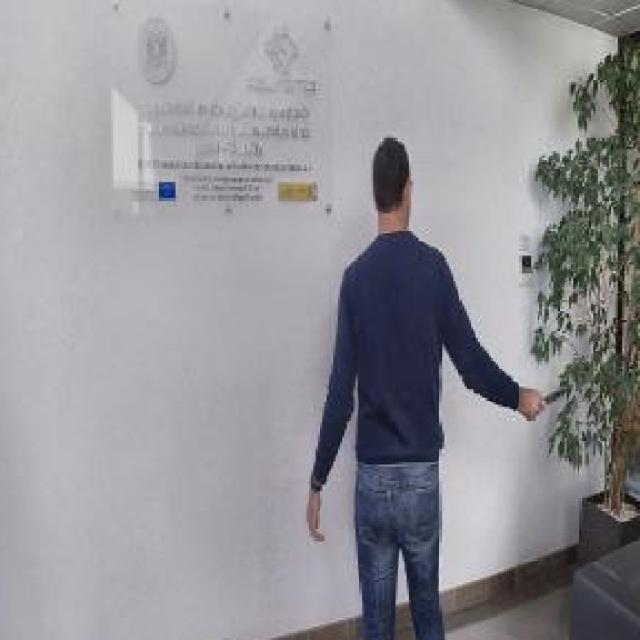knife: (528, 382, 569, 422)
